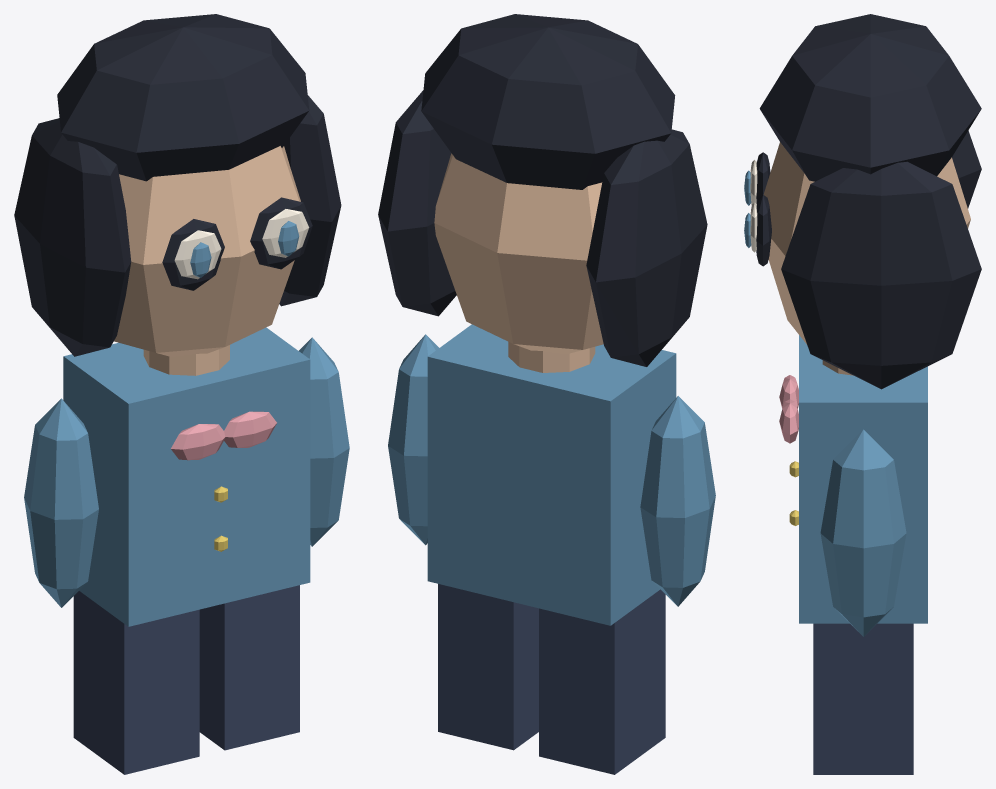
The model's file is anime.obj.
3 renders of one model, left to right at view 1: azimuth 30°, elevation 25°; view 2: azimuth 150°, elevation 25°; view 3: azimuth 270°, elevation 25°, orthographic.
Visible parts, largest first — view 1: stage_5_part_10, stage_4_part_7, stage_1_part_0, stage_4_part_8, stage_5_part_13, stage_5_part_14, stage_5_part_11, stage_4_part_9, stage_5_part_12, stage_2_part_1, stage_2_part_4, stage_6_part_15 (+5 smaller); view 2: stage_5_part_10, stage_4_part_7, stage_1_part_0, stage_4_part_8, stage_5_part_13, stage_5_part_14, stage_5_part_11, stage_4_part_9, stage_5_part_12, stage_6_part_15; view 3: stage_4_part_9, stage_4_part_7, stage_5_part_10, stage_5_part_14, stage_5_part_12, stage_1_part_0, stage_4_part_8, stage_2_part_4, stage_7_part_17, stage_2_part_1, stage_7_part_16.
Part boxes in pixels (<box>): stage_5_part_10: <box>63,327,310,626</box>; stage_4_part_7: <box>57,14,309,181</box>; stage_1_part_0: <box>114,146,300,356</box>; stage_4_part_8: <box>14,118,131,356</box>; stage_5_part_13: <box>73,591,199,774</box>; stage_5_part_14: <box>199,585,299,750</box>; stage_5_part_11: <box>24,398,98,607</box>; stage_4_part_9: <box>279,95,341,306</box>; stage_5_part_12: <box>299,337,349,546</box>; stage_2_part_1: <box>162,219,224,290</box>; stage_2_part_4: <box>250,197,312,269</box>; stage_6_part_15: <box>143,345,229,375</box>; stage_5_part_10: <box>427,324,676,625</box>; stage_4_part_7: <box>421,14,675,189</box>; stage_1_part_0: <box>434,153,603,353</box>; stage_4_part_8: <box>586,129,707,366</box>; stage_5_part_13: <box>539,589,665,774</box>; stage_5_part_14: <box>438,584,538,750</box>; stage_5_part_11: <box>640,396,715,606</box>; stage_4_part_9: <box>378,90,456,316</box>; stage_5_part_12: <box>388,334,438,545</box>; stage_6_part_15: <box>508,342,595,372</box>; stage_4_part_9: <box>781,161,981,389</box>; stage_4_part_7: <box>759,14,981,181</box>; stage_5_part_10: <box>799,335,927,623</box>; stage_5_part_14: <box>813,623,913,774</box>; stage_5_part_12: <box>820,429,906,636</box>; stage_1_part_0: <box>763,142,970,344</box>; stage_4_part_8: <box>952,130,981,208</box>; stage_2_part_4: <box>756,195,771,266</box>; stage_7_part_17: <box>779,399,798,443</box>; stage_2_part_1: <box>756,152,770,203</box>; stage_7_part_16: <box>779,375,798,408</box>.
Bounding box in the file's own units: 1 × 2.15 × 0.663.
